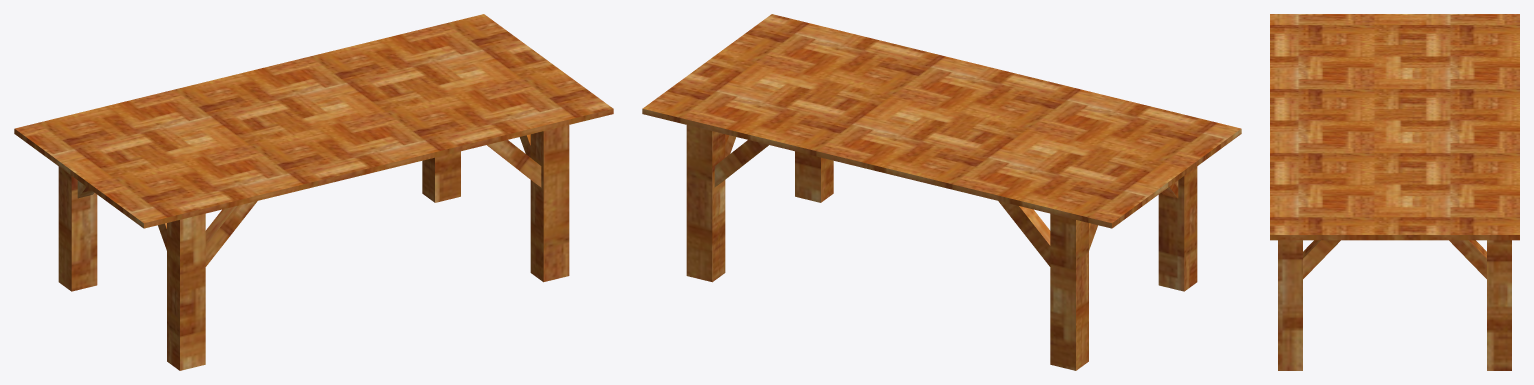
Rendered from Desk.fbx.
3 renders of one model, left to right at view 1: azimuth 30°, elevation 25°; view 2: azimuth 150°, elevation 25°; view 3: azimuth 270°, elevation 25°, orthographic. The views are drawn at different scales.
Visible parts, largest first — view 1: 立方体; view 2: 立方体; view 3: 立方体.
Boxes of the visible parts, x1,y1,x2,y2 form: 立方体: [14, 14, 613, 370]; 立方体: [642, 14, 1241, 370]; 立方体: [1270, 14, 1519, 370].
Bounding box in the file's own units: 281 × 91.88 × 134.
